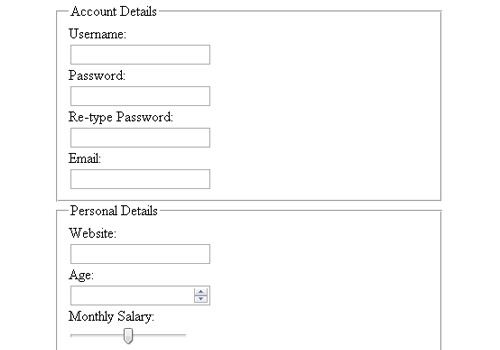_form_: (1, 1, 416, 350)
field: (68, 83, 210, 108), (68, 126, 212, 150), (70, 43, 212, 67), (69, 167, 212, 189), (70, 243, 211, 265)
field_with_label: (66, 109, 213, 152), (68, 27, 215, 69), (67, 69, 212, 109), (67, 269, 212, 309), (67, 151, 213, 190), (68, 228, 212, 267)
select: (69, 282, 210, 307)
